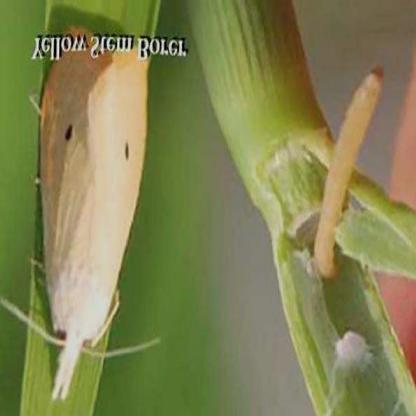stem-borer: (34, 71, 148, 404)
